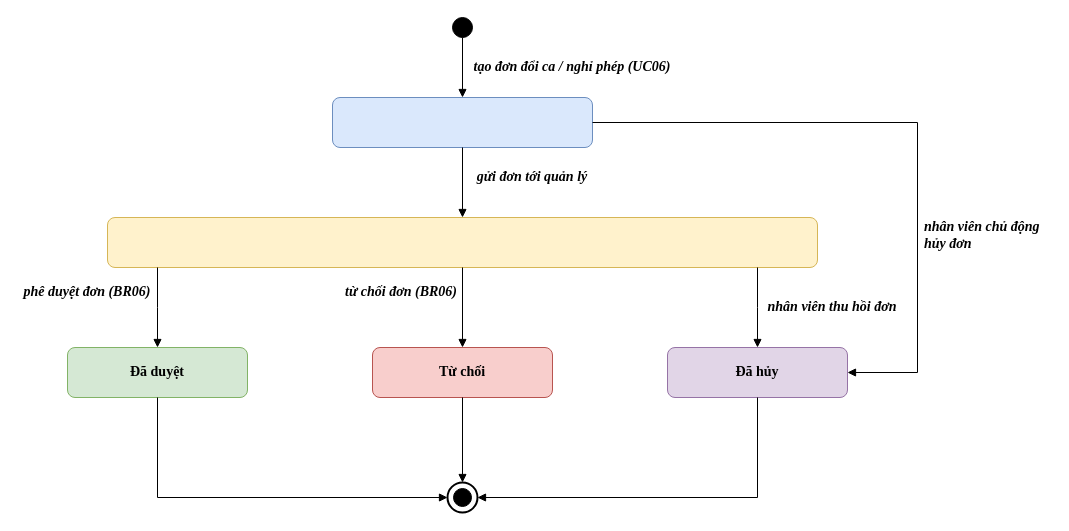
Image size: 1069x531. Some labels were removed from this diagram. The centre of each missing label's shape, as x and y in pixels:
Chờ duyệt: point 462,242
Mới tạo: point 462,122
